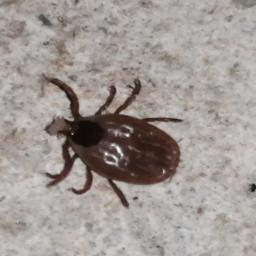Rhipicephalus sanguineus: (43, 76, 186, 208)
